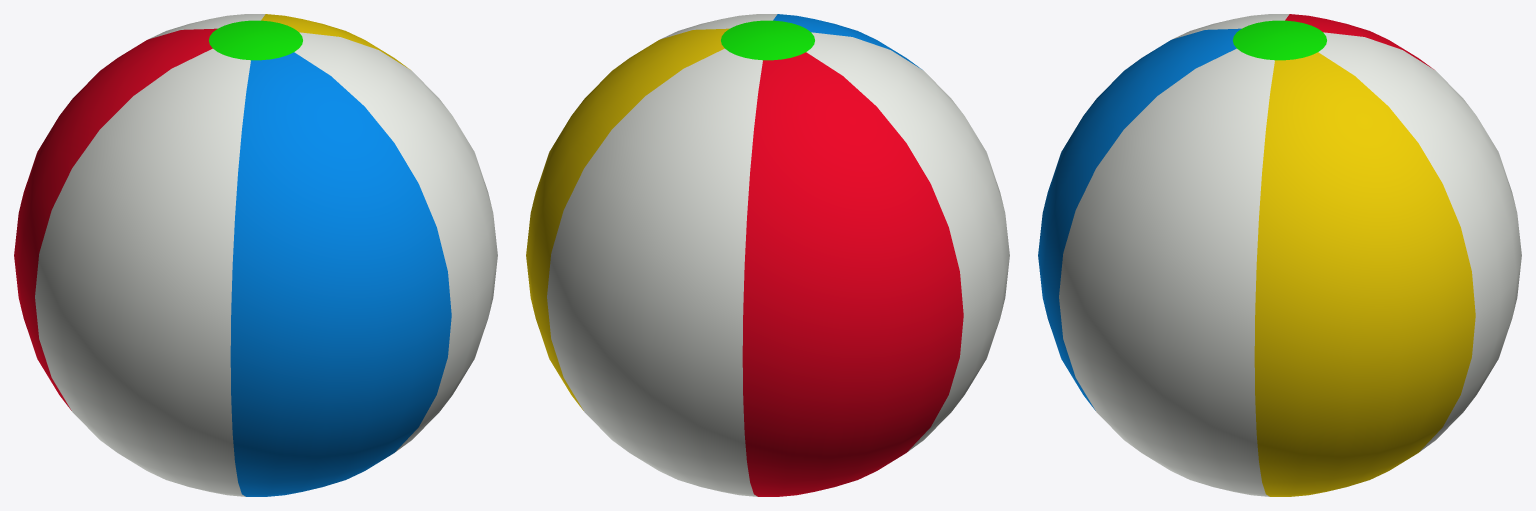
Rendered from Ball.fbx.
3 renders of one model, left to right at view 1: azimuth 30°, elevation 25°; view 2: azimuth 150°, elevation 25°; view 3: azimuth 270°, elevation 25°, orthographic.
Parts seen in each view (by area): view 1: Sphere; view 2: Sphere; view 3: Sphere.
Part boxes in pixels (box(x1,y1,x2,y2)): Sphere: box(14, 14, 497, 496); Sphere: box(526, 14, 1009, 496); Sphere: box(1038, 14, 1521, 496).
Bounding box in the file's own units: 148 × 149 × 149.
